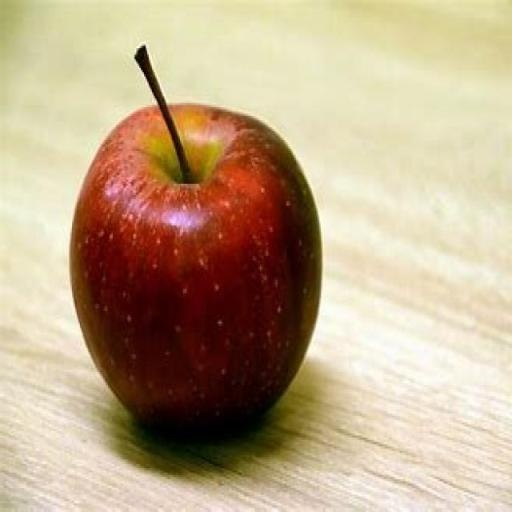fruit: (70, 94, 320, 429)
